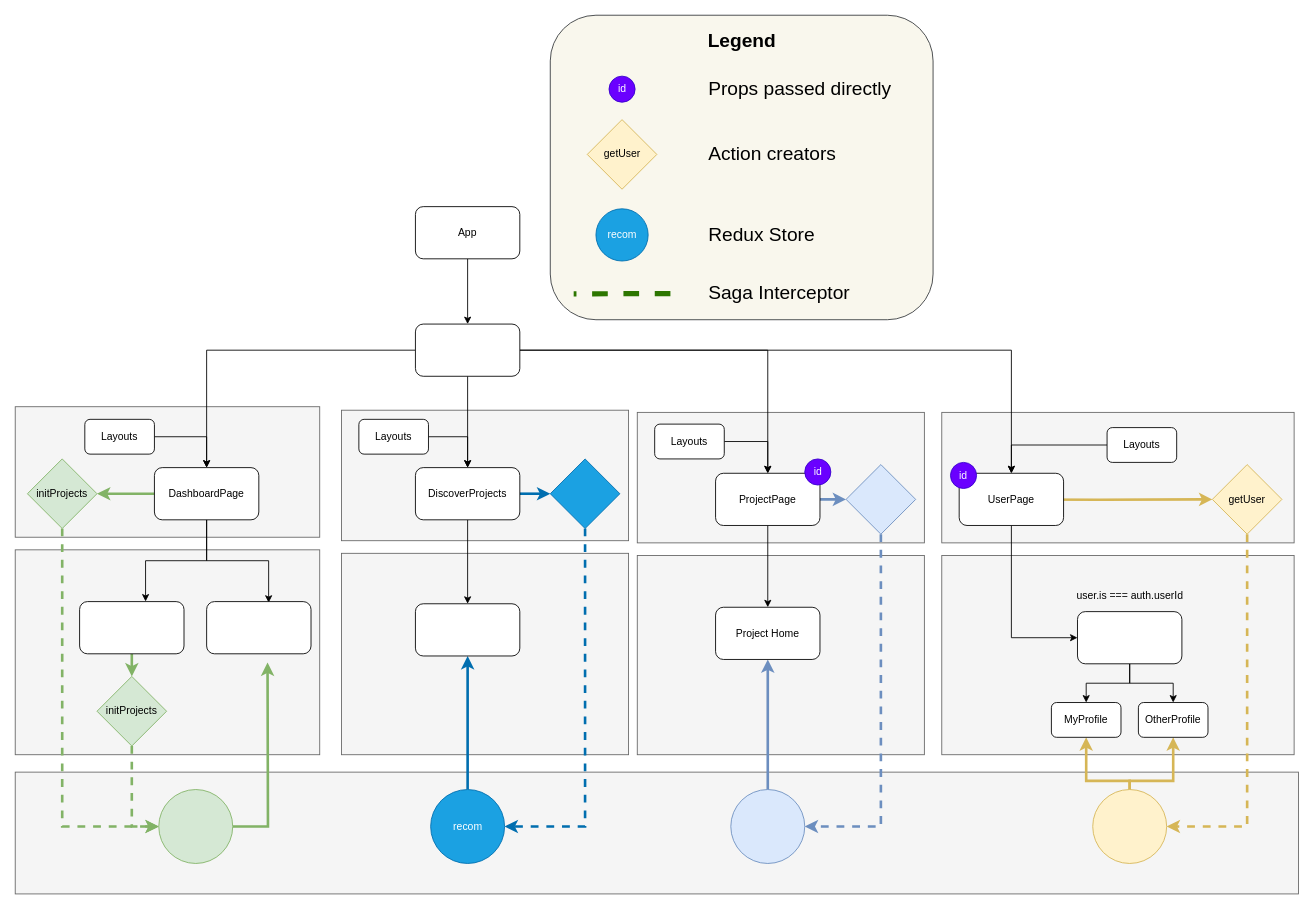
The diagram is 1314 pixels wide and 909 high, and some of its shapes have lost their labels. Here are the shapes that lost their labels. From the top down, the centre of each, then its label:
(467,349): Routes
(584,493): getRecom
(880,499): getProject
(131,627): Project New
(258,627): Projects Overview
(467,629): DiscoverHome
(1129,637): User Home
(195,826): allProjects
(767,826): project
(1129,826): user
